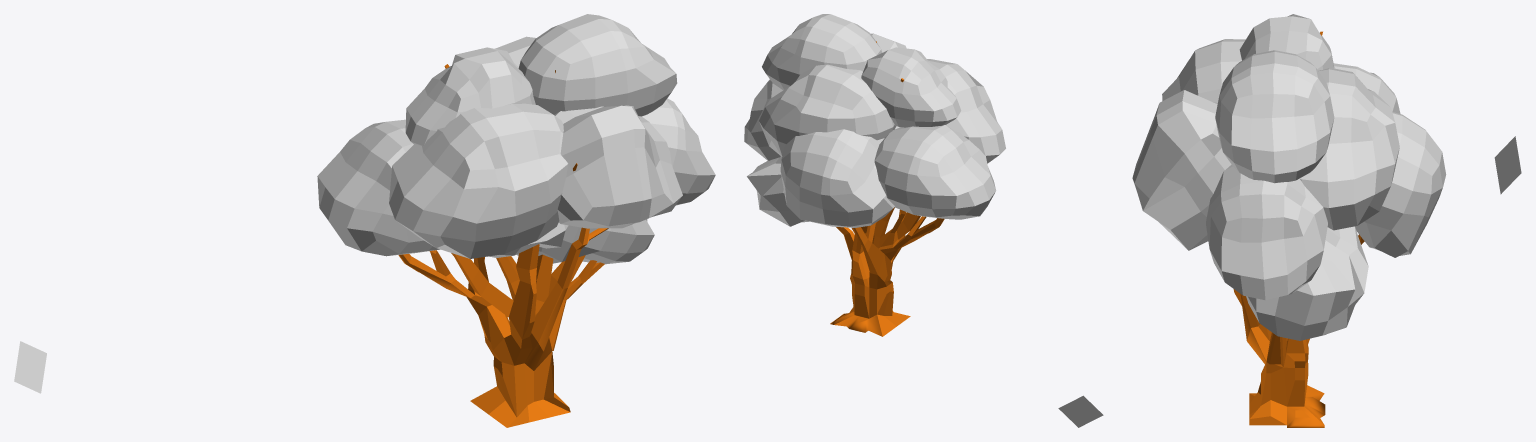
Rendered from GeoTree.fbx.
3 renders of one model, left to right at view 1: azimuth 30°, elevation 25°; view 2: azimuth 150°, elevation 25°; view 3: azimuth 270°, elevation 25°, orthographic. The views are drawn at different scales.
Parts seen in each view (by area): view 1: Cube.004, Trunk, Cube.002, Cube, Cube.005, Cube.006, Cube.003, Cube.007, Plane, Cube.009; view 2: Cube.005, Cube.008, Cube.001, Trunk, Cube.006, Cube, Cube.004, Cube.007, Cube.003, Plane; view 3: Cube, Cube.003, Cube.002, Cube.001, Cube.007, Cube.008, Trunk, Cube.006, Cube.004, Plane, Cube.005.
Part boxes in pixels (box(x1,y1,x2,y2)): Cube.004: box(389, 103, 567, 258); Trunk: box(398, 64, 608, 427); Cube.002: box(554, 105, 682, 228); Cube: box(518, 14, 677, 116); Cube.005: box(317, 119, 439, 256); Cube.006: box(405, 47, 535, 145); Cube.003: box(642, 98, 715, 205); Cube.007: box(516, 219, 654, 264); Plane: box(14, 341, 46, 393); Cube.009: box(488, 222, 568, 257); Cube.005: box(874, 125, 996, 219); Cube.008: box(780, 129, 894, 227); Cube.001: box(759, 64, 896, 156); Trunk: box(830, 41, 944, 336); Cube.006: box(861, 47, 961, 127); Cube: box(762, 14, 881, 90); Cube.004: box(927, 59, 1005, 163); Cube.007: box(747, 156, 808, 226); Cube.003: box(744, 79, 782, 160); Plane: box(1058, 395, 1103, 427); Cube: box(1215, 50, 1334, 183); Cube.003: box(1206, 164, 1327, 300); Cube.002: box(1132, 90, 1231, 250); Cube.001: box(1300, 68, 1399, 230); Cube.007: box(1246, 226, 1368, 340); Cube.008: box(1355, 112, 1446, 257); Trunk: box(1233, 31, 1364, 427); Cube.006: box(1239, 14, 1334, 70); Cube.004: box(1162, 39, 1245, 102); Plane: box(1494, 136, 1521, 194); Cube.005: box(1333, 63, 1400, 113).
Bounding box in the file's own units: 955 × 594 × 548.
